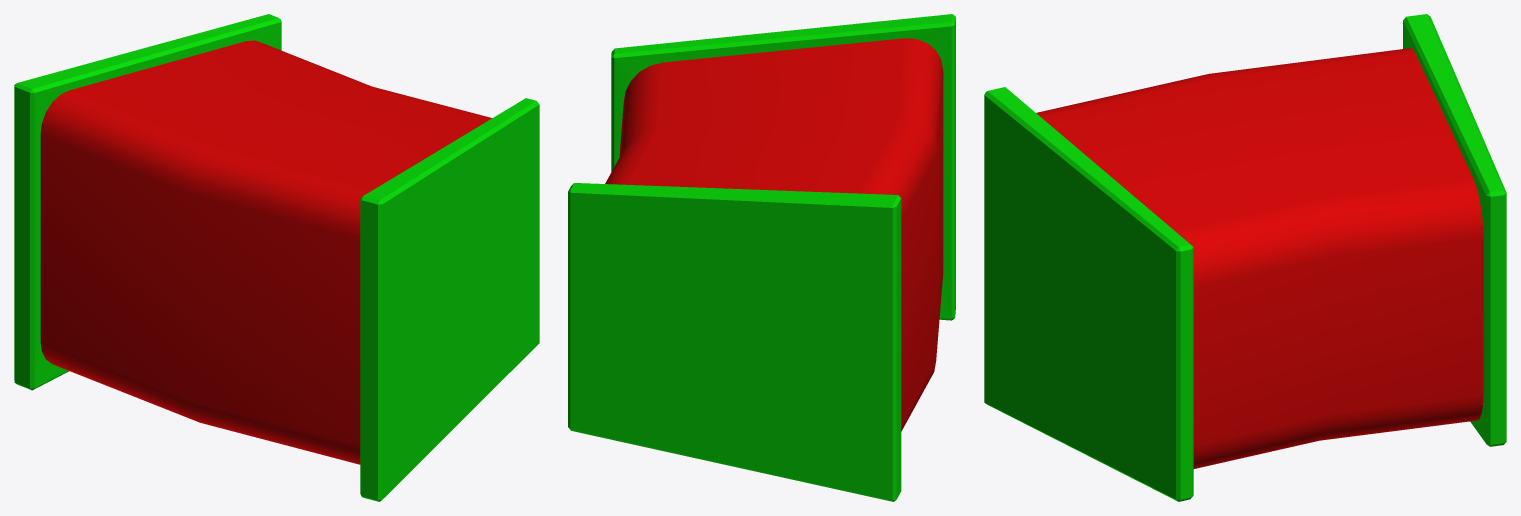
File: acc_coil.glb
The picture shows the model from 3 angles, left to right: view 1: azimuth 30°, elevation 25°; view 2: azimuth 150°, elevation 25°; view 3: azimuth 270°, elevation 25°; orthographic projection. The views are drawn at different scales.
Parts seen in each view (by area): view 1: arc_reactor_mk1_acc_coil; view 2: arc_reactor_mk1_acc_coil; view 3: arc_reactor_mk1_acc_coil.
Boxes of the visible parts, left/top/right/bottom form: arc_reactor_mk1_acc_coil: left=14, top=14, right=539, bottom=501; arc_reactor_mk1_acc_coil: left=568, top=14, right=955, bottom=501; arc_reactor_mk1_acc_coil: left=984, top=14, right=1506, bottom=501.
Bounding box in the file's own units: 0.3996 × 0.2836 × 0.4279.
